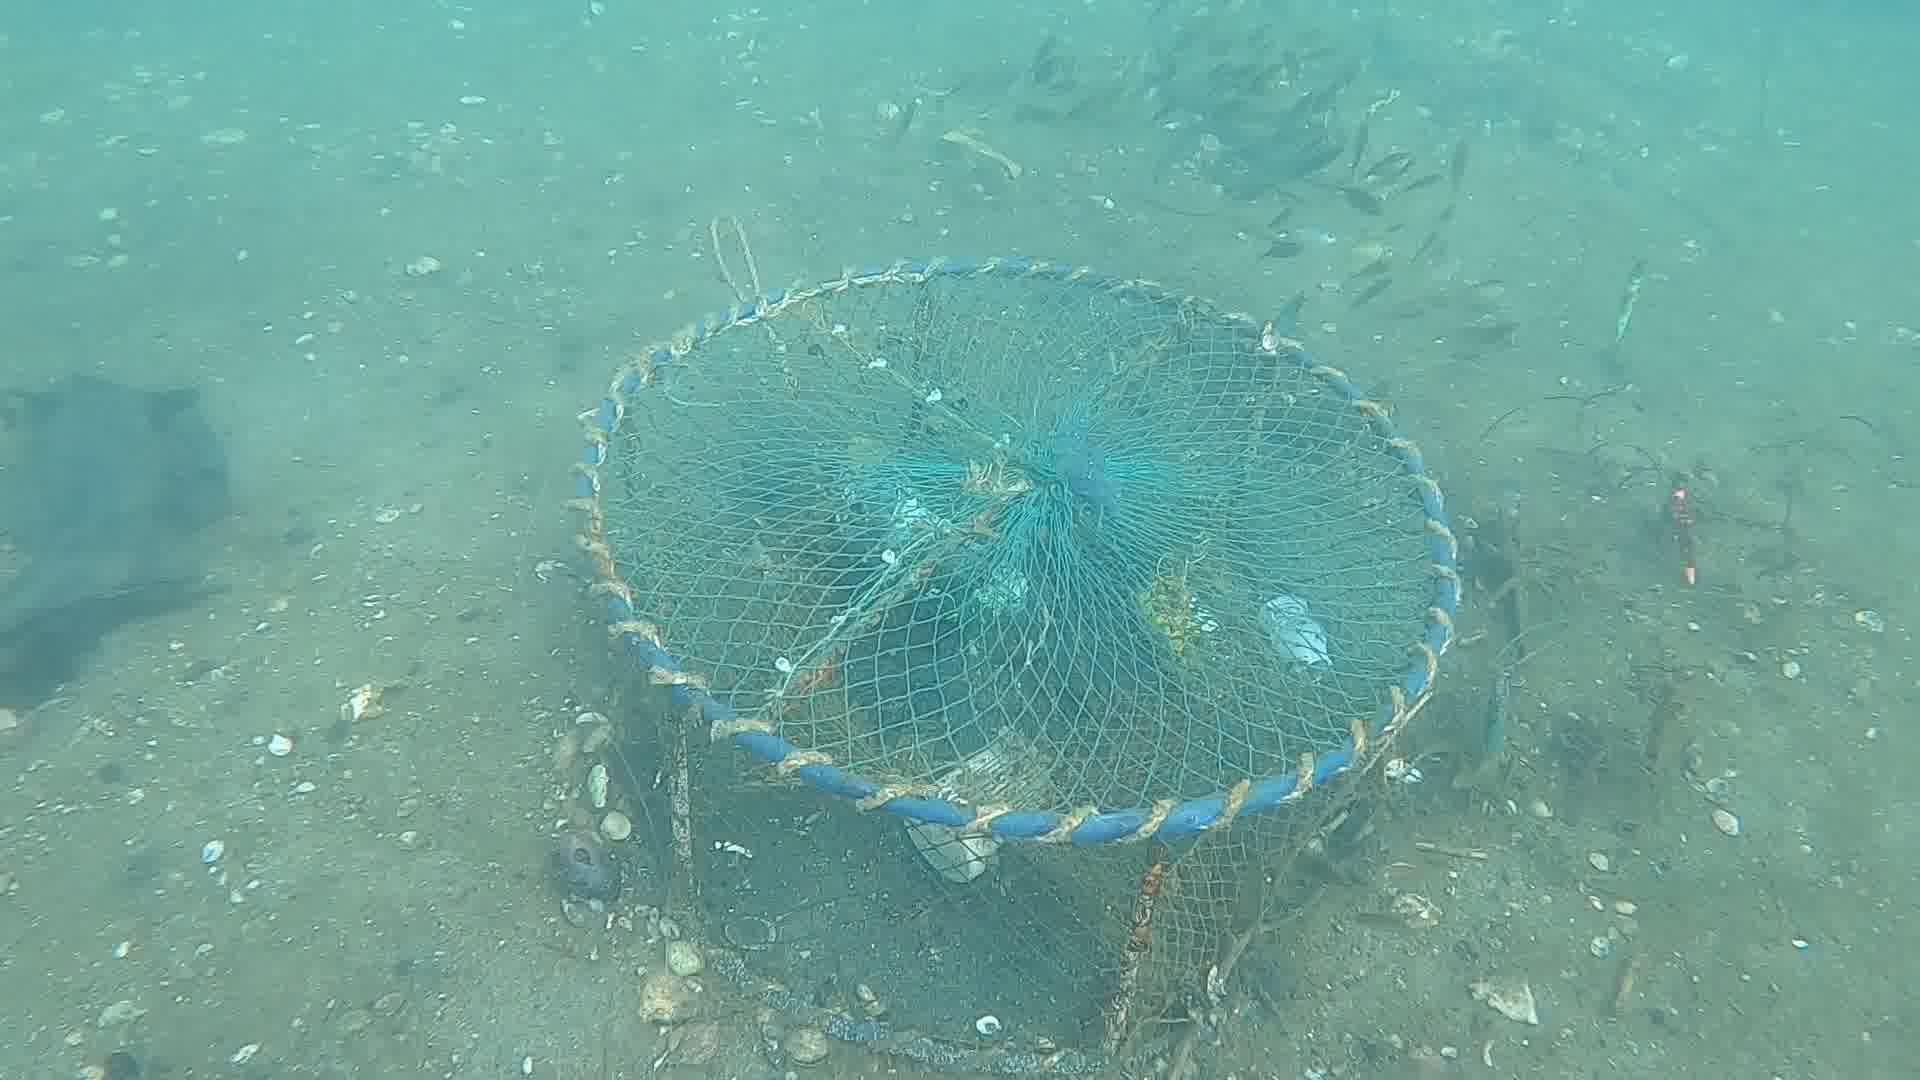circular fish trap: (554, 248, 1466, 1080)
